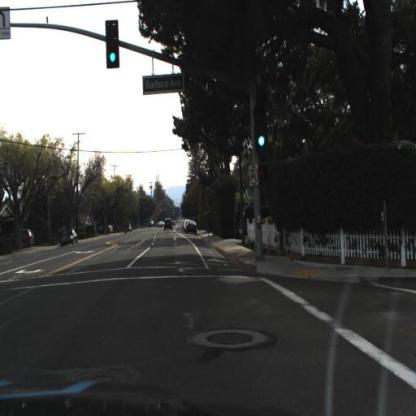car: (238, 202, 274, 241), (20, 226, 37, 251), (61, 226, 79, 247), (184, 219, 200, 236), (24, 227, 34, 250)
trafficLight-Green: (256, 106, 270, 155), (108, 23, 120, 67)
